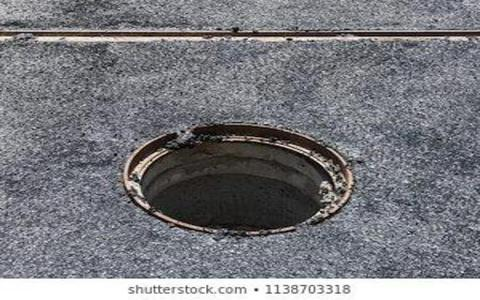open manhole: (103, 100, 361, 251)
